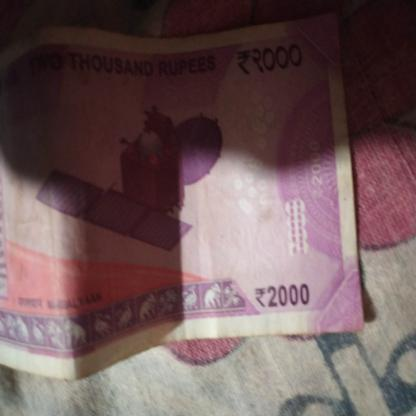New2000Back: (0, 31, 349, 331)
